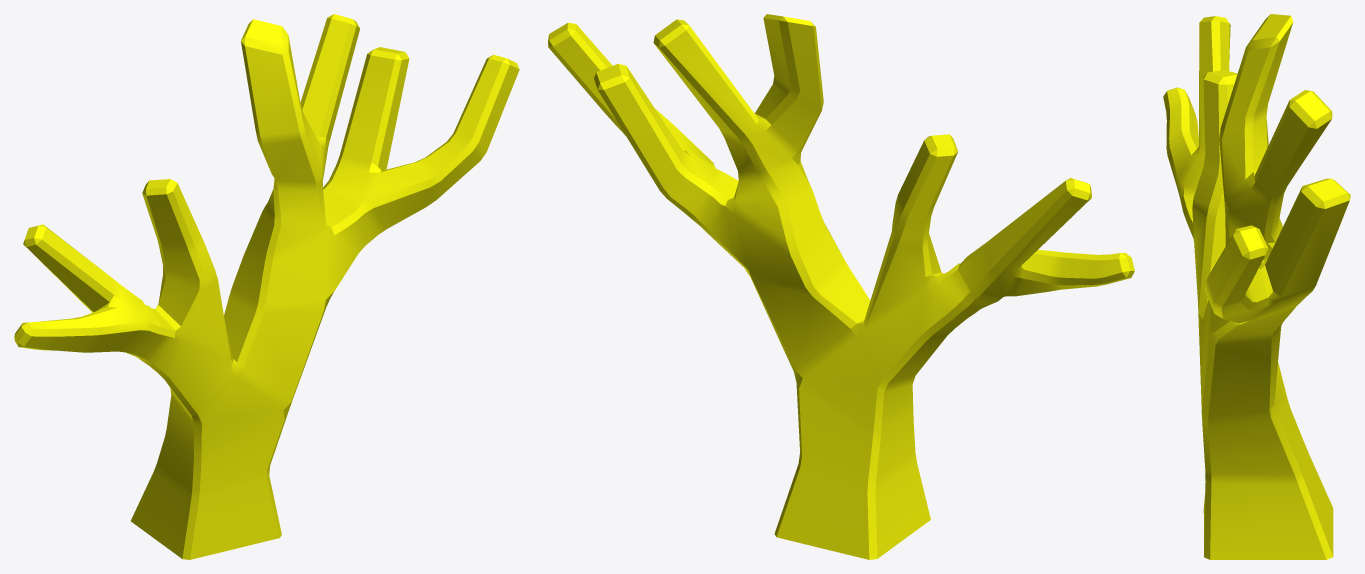
File: DeadTree_3.glb
3 views of the same model, side by side, from view 1: azimuth 30°, elevation 25°; view 2: azimuth 150°, elevation 25°; view 3: azimuth 270°, elevation 25° (orthographic). The views are drawn at different scales.
Parts seen in each view (by area): view 1: DeadTree_3; view 2: DeadTree_3; view 3: DeadTree_3.
Boxes of the visible parts, x1=… form: DeadTree_3: x1=14, y1=14, x2=519, y2=559; DeadTree_3: x1=548, y1=14, x2=1134, y2=559; DeadTree_3: x1=1163, y1=14, x2=1350, y2=559.
Bounding box in the file's own units: 5.72 × 4.99 × 1.55.
Materials: 1 (1 with a texture image).
